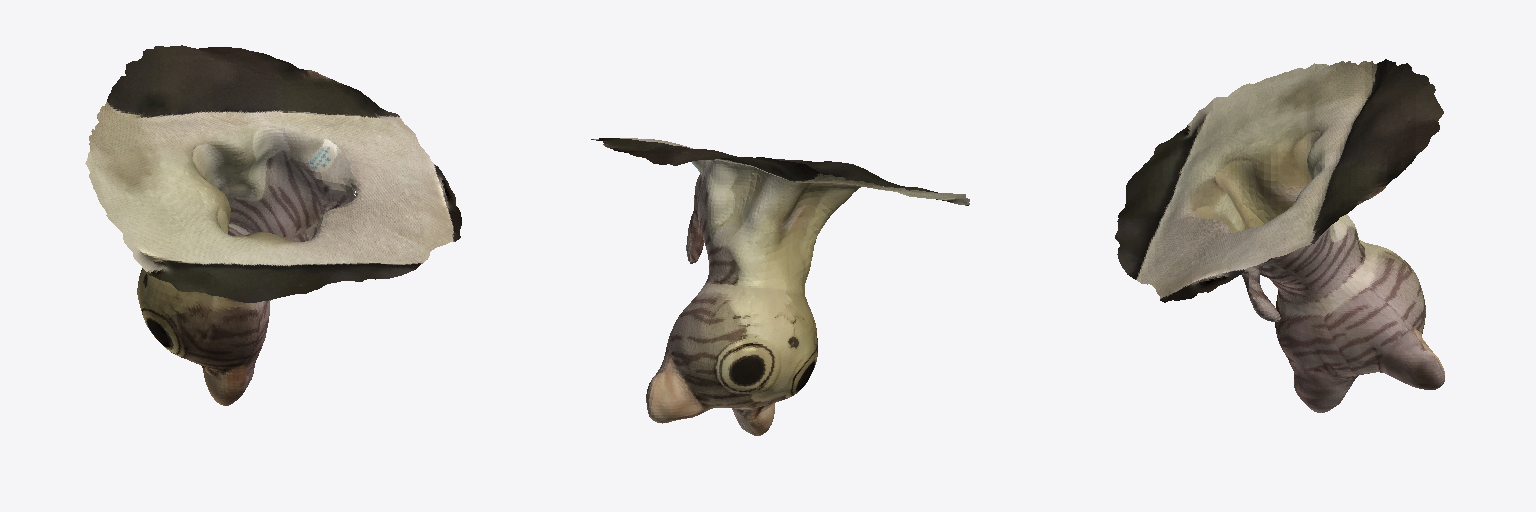
3 views of the same model, side by side, from view 1: azimuth 30°, elevation 25°; view 2: azimuth 150°, elevation 25°; view 3: azimuth 270°, elevation 25° (orthographic).
Size of the model in its own units: 2.45 by 2.28 by 2.12.
Materials: 1 (1 with a texture image).